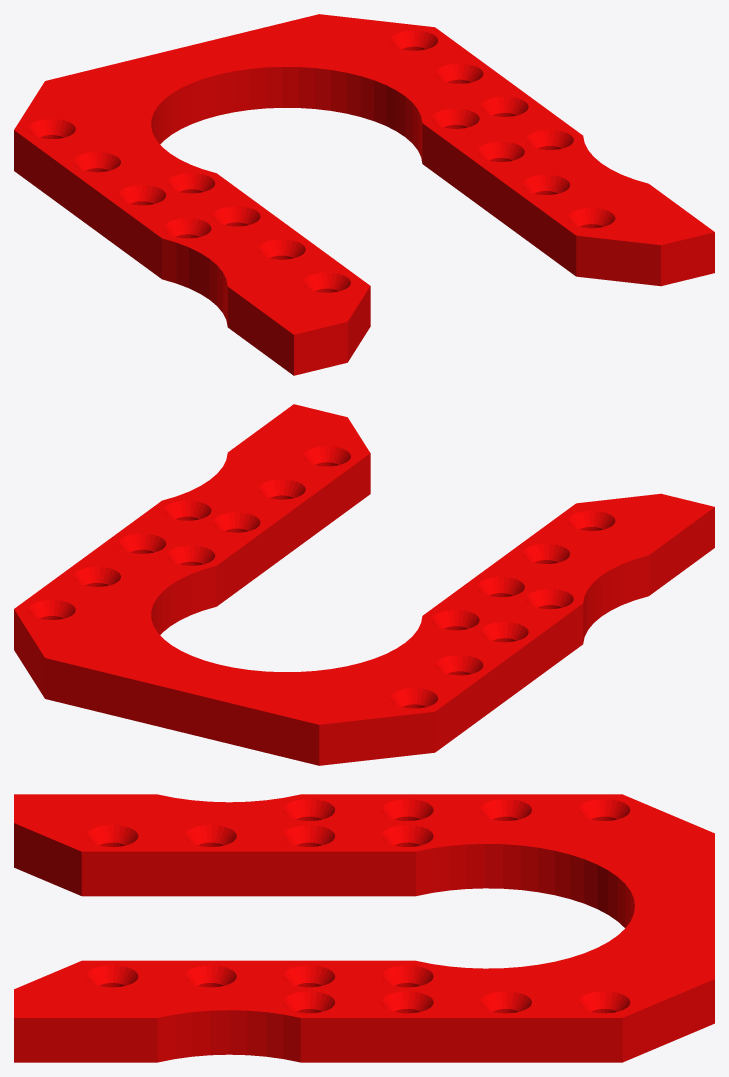
File: upper_hip.dae
3 renders of one model, top to bottom at view 1: azimuth 30°, elevation 25°; view 2: azimuth 150°, elevation 25°; view 3: azimuth 270°, elevation 25°, orthographic. The views are drawn at different scales.
Parts seen in each view (by area): view 1: node0; view 2: node0; view 3: node0.
Part boxes in pixels (left/top/right/bottom): node0: left=14, top=14, right=714, bottom=375; node0: left=14, top=404, right=714, bottom=765; node0: left=14, top=794, right=714, bottom=1062.
Size of the model in its own units: 43 by 57 by 4.
